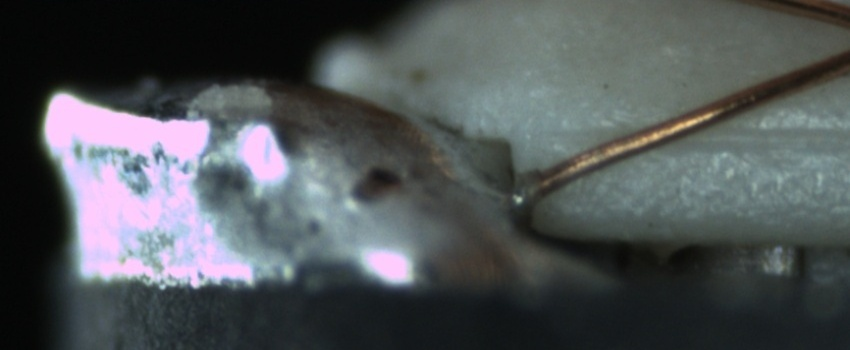DL: (561, 104, 850, 168)
